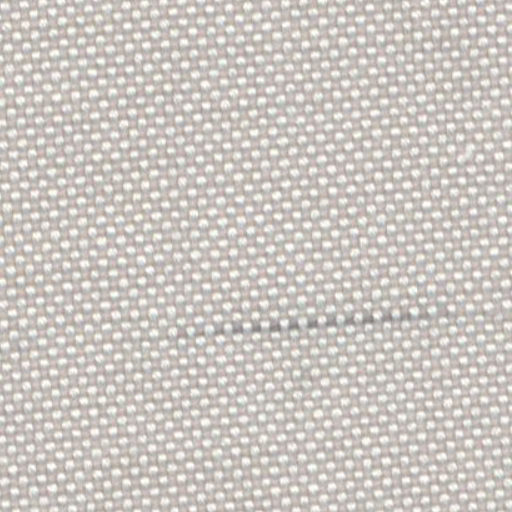WuZi: (176, 298, 460, 338)
